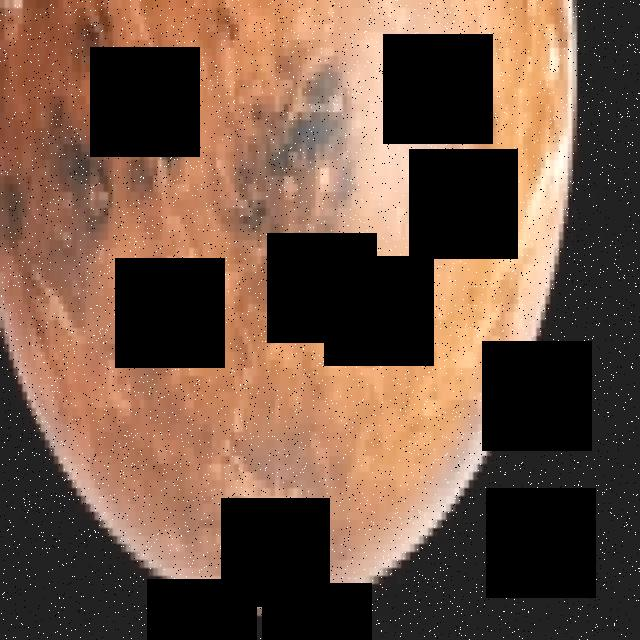Venus: (0, 0, 581, 624)
